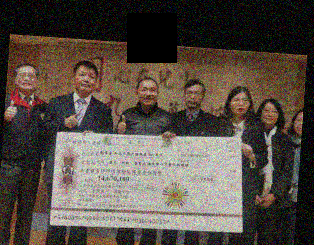without_mask: (74, 69, 97, 93), (14, 70, 38, 91), (136, 84, 158, 105), (229, 95, 251, 115), (183, 87, 204, 107), (260, 106, 279, 124), (292, 114, 303, 134)
